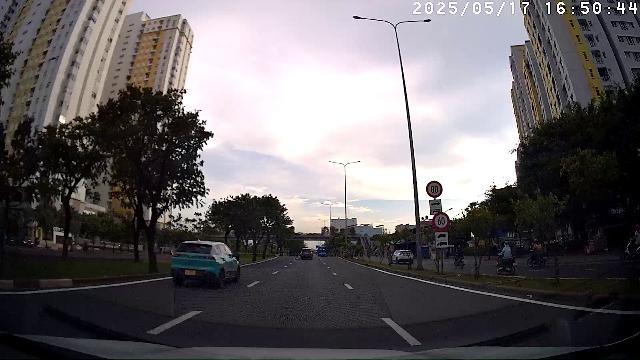127-toc-do-toi-da-60: (432, 212, 450, 231)
127-toc-do-toi-da-80: (426, 181, 443, 198)
